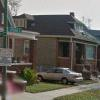Car: (35, 61, 87, 86)
